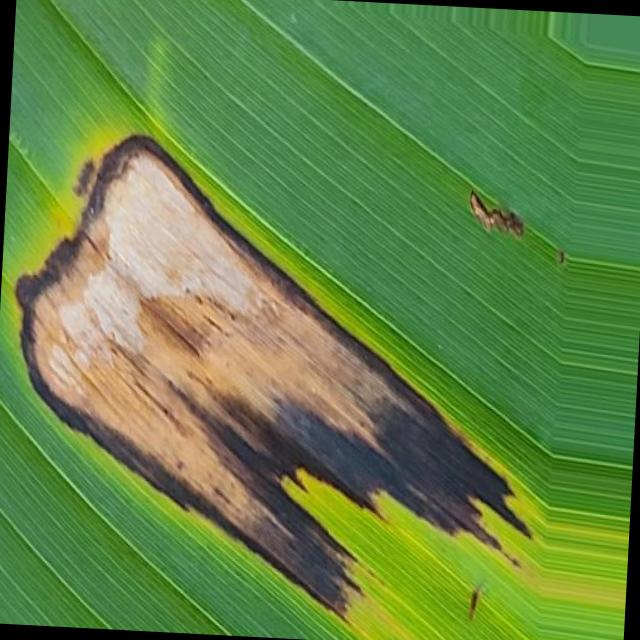Banana_Black_Sigatoka: (11, 126, 550, 640)
